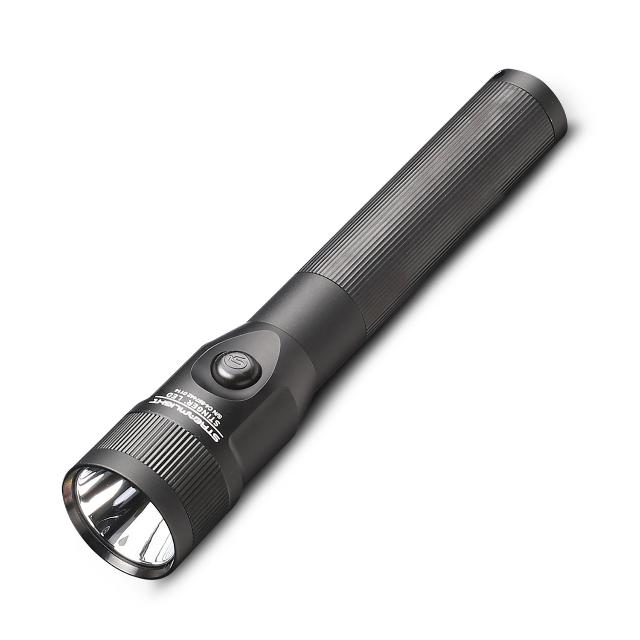Flashlight: (44, 59, 582, 591)
